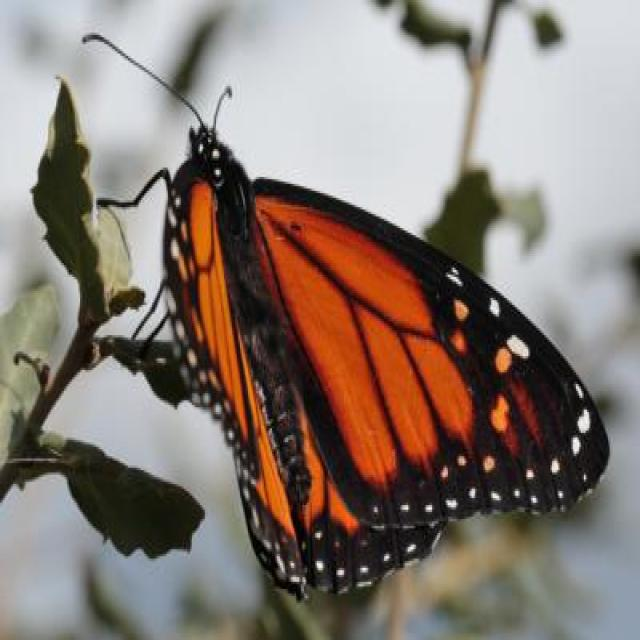antennae: (81, 30, 254, 164)
body: (184, 117, 312, 502)
insect: (79, 27, 611, 601)
legs: (96, 149, 199, 385)
wings: (252, 172, 612, 593), (170, 166, 299, 605)
